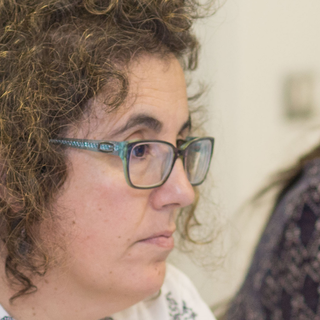eye: (114, 138, 158, 163)
